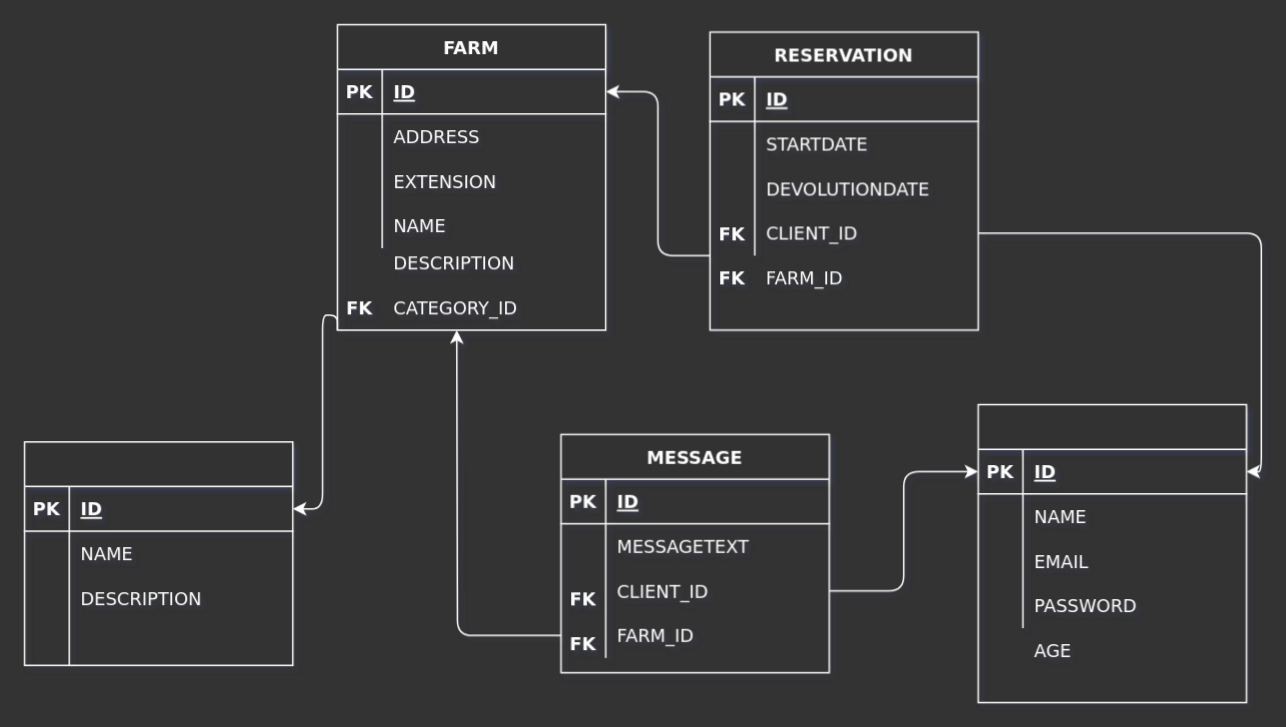
Some shapes in this 1286 by 727 pixel diagram are drawn without their labels. Each missing label, with the box of its shape:
CATEGORY: (23, 440, 293, 665)
CLIENT: (977, 403, 1246, 703)
